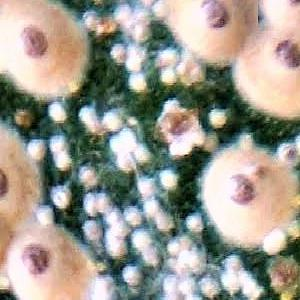Femea: (233, 27, 299, 113), (0, 0, 70, 80), (215, 161, 287, 236), (176, 0, 253, 66), (13, 237, 80, 299), (0, 132, 33, 225)
Linfa: (105, 128, 135, 154), (240, 273, 266, 299), (95, 105, 122, 129), (261, 231, 285, 254), (118, 207, 144, 228), (84, 219, 103, 247), (168, 138, 192, 159), (136, 176, 159, 197), (154, 207, 175, 230), (46, 134, 71, 153), (207, 107, 229, 128), (26, 138, 46, 161), (46, 102, 66, 125), (125, 46, 145, 69), (221, 272, 239, 297), (50, 185, 69, 208), (199, 276, 218, 299), (150, 0, 170, 21), (118, 265, 140, 284), (51, 153, 74, 171), (154, 50, 179, 66), (158, 169, 177, 190), (183, 212, 202, 233), (131, 231, 154, 248), (178, 277, 196, 298), (222, 255, 241, 274), (114, 2, 133, 21), (162, 272, 177, 295), (138, 197, 156, 216), (37, 206, 54, 225), (126, 75, 145, 92), (164, 238, 181, 257)
